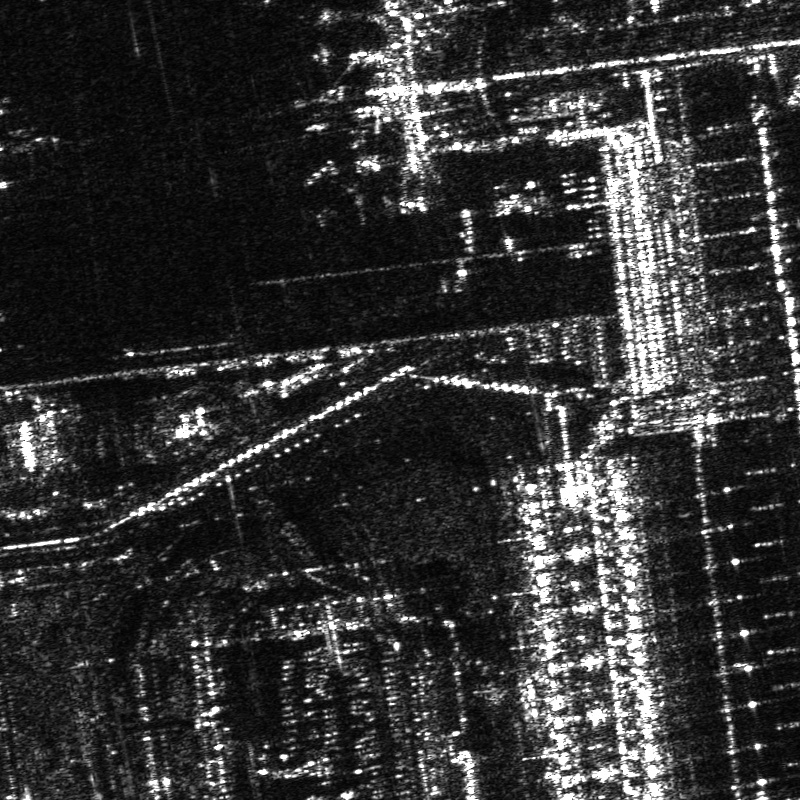Boeing737: (311, 175, 370, 229)
